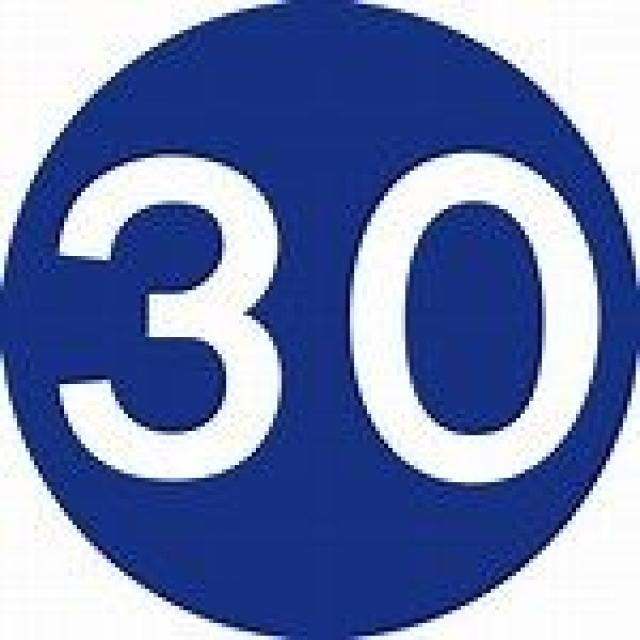compulsory_keep_right: (0, 0, 635, 631)
